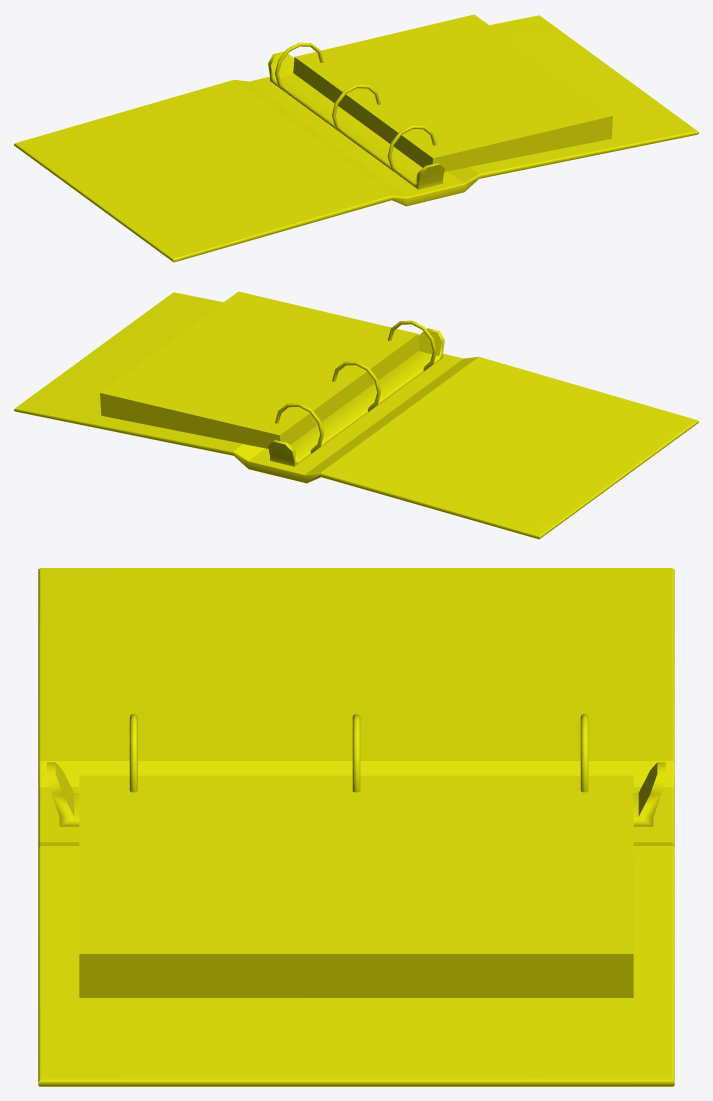
Rendered from BinderOpen_01.fbx.
3 views of the same model, one above another, from view 1: azimuth 30°, elevation 25°; view 2: azimuth 150°, elevation 25°; view 3: azimuth 270°, elevation 25° (orthographic). The views are drawn at different scales.
Parts seen in each view (by area): view 1: OpenBinder_01; view 2: OpenBinder_01; view 3: OpenBinder_01.
Part boxes in pixels (x1,y1,x2,y2): OpenBinder_01: [14, 14, 698, 262]; OpenBinder_01: [14, 291, 698, 539]; OpenBinder_01: [38, 568, 674, 1086].
Size of the model in its own units: 13.47 by 1.4 by 7.06.
